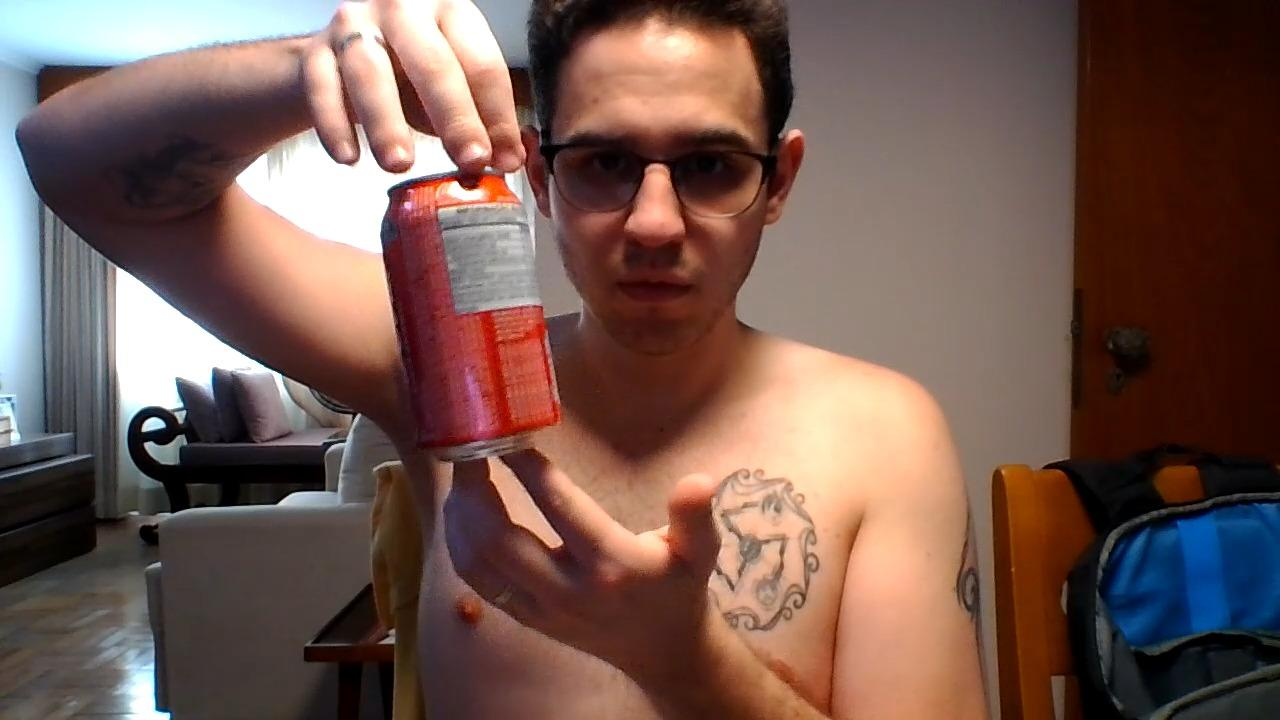coke: (387, 181, 559, 456)
